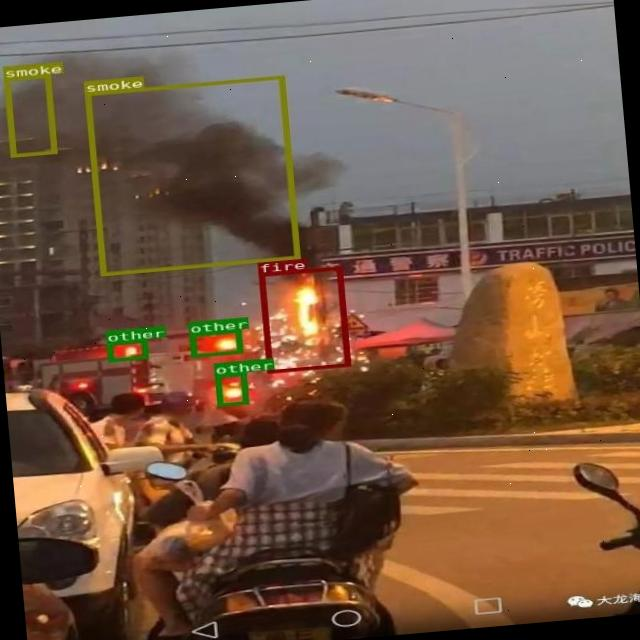fire: (257, 265, 349, 373)
smoke: (84, 75, 298, 275), (2, 74, 56, 156)
